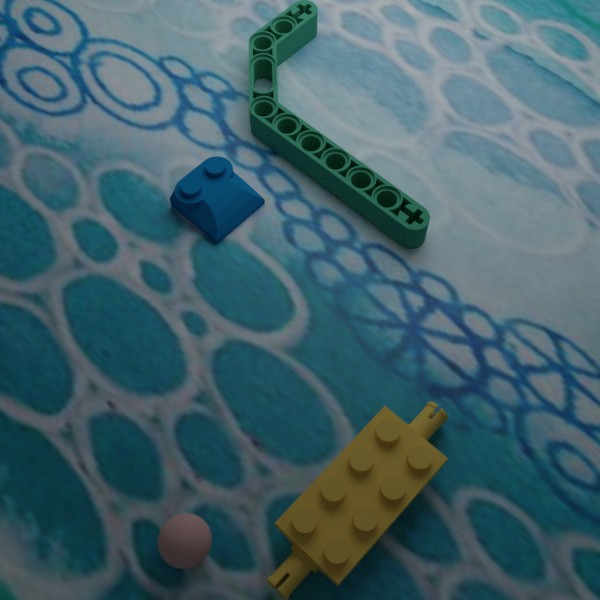lego: (248, 0, 430, 248), (266, 401, 448, 600), (169, 156, 264, 244), (157, 513, 211, 568)
